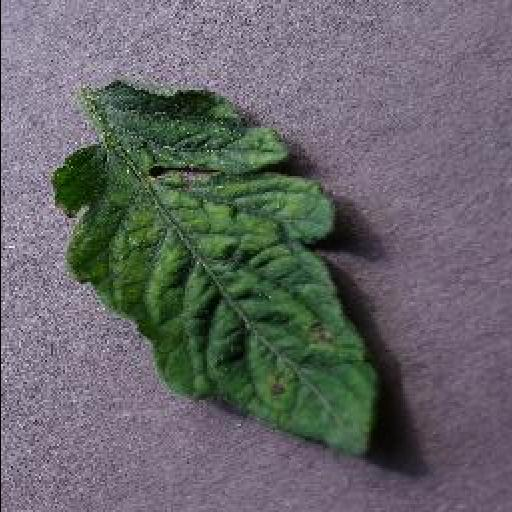Mosaic Virus: (51, 82, 385, 456)
